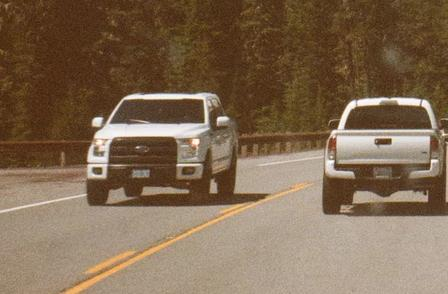car: (74, 82, 245, 216), (317, 89, 448, 233)
